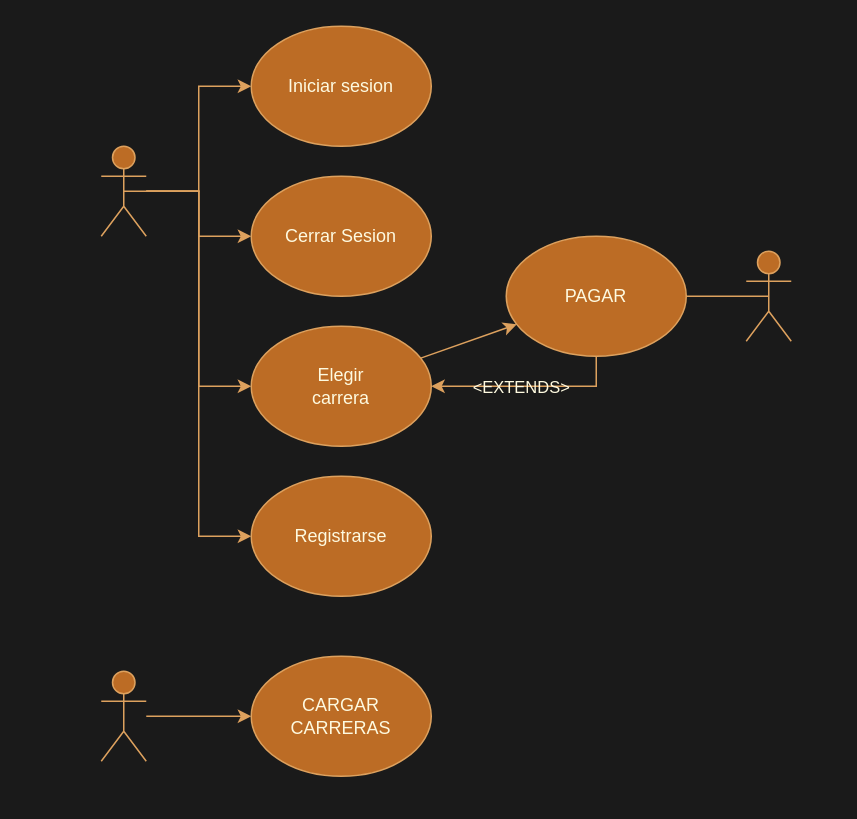
Some shapes in this 857 by 819 pixel diagram are drawn without their labels. The shapes that lost their labels are listed below. From the top down, each one's centre as x and y in pixels, then its label:
At (x=123, y=190): "ALUMNO".
At (x=768, y=295): "Servidor Banco".
At (x=123, y=715): "Empleado administrativo".
